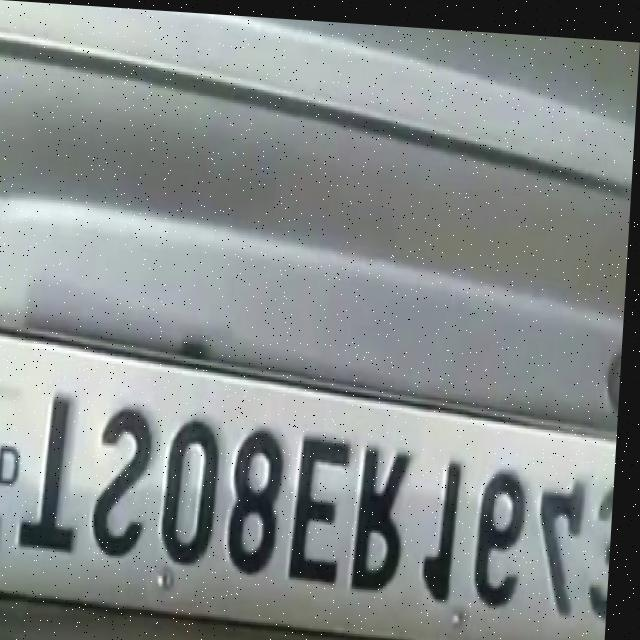plate: (0, 325, 625, 640)
